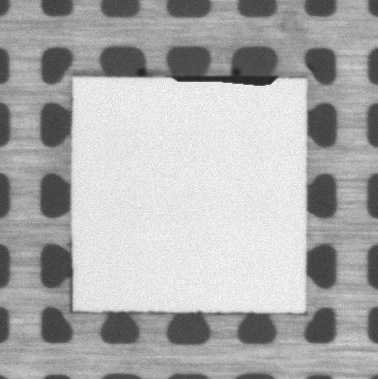DIE_BROKEN: (168, 70, 279, 88)
